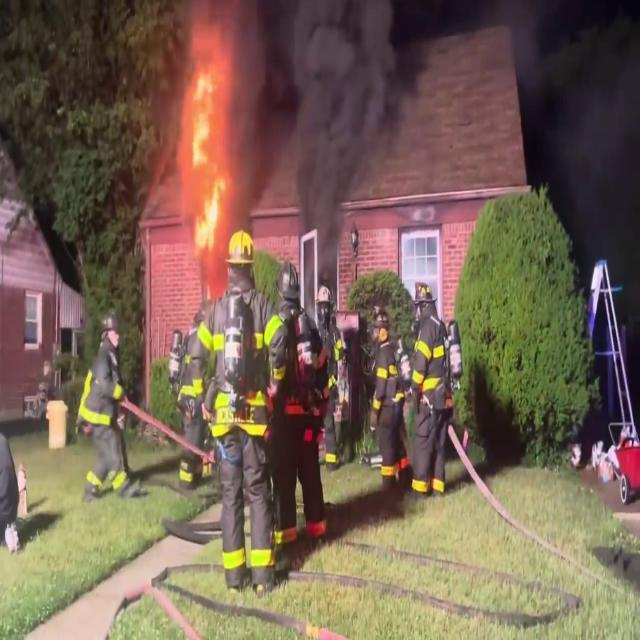Fire: (178, 62, 256, 258)
Smoke: (238, 0, 418, 210)
